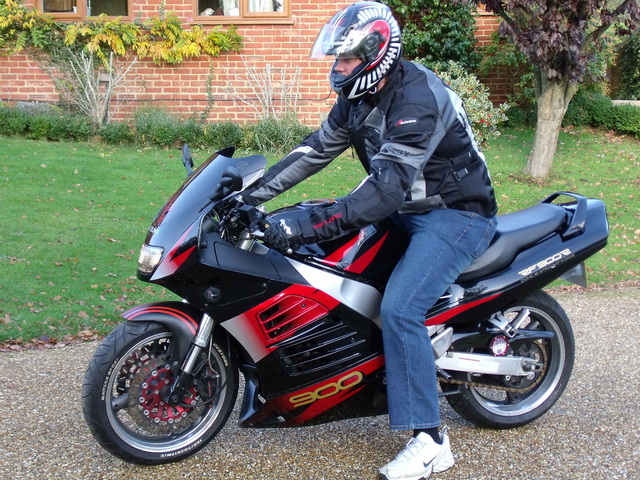helmet: (313, 6, 407, 88)
